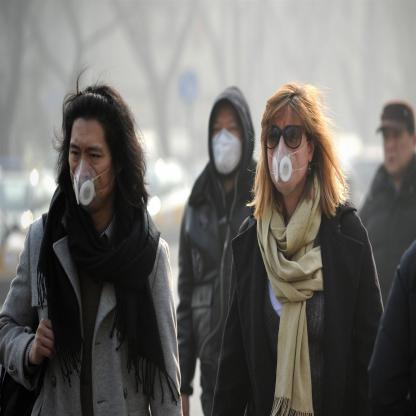Not_Wearing_Mask: (381, 124, 410, 174)
Wearing_Mask: (67, 135, 110, 208), (268, 120, 309, 190), (211, 115, 241, 176)
